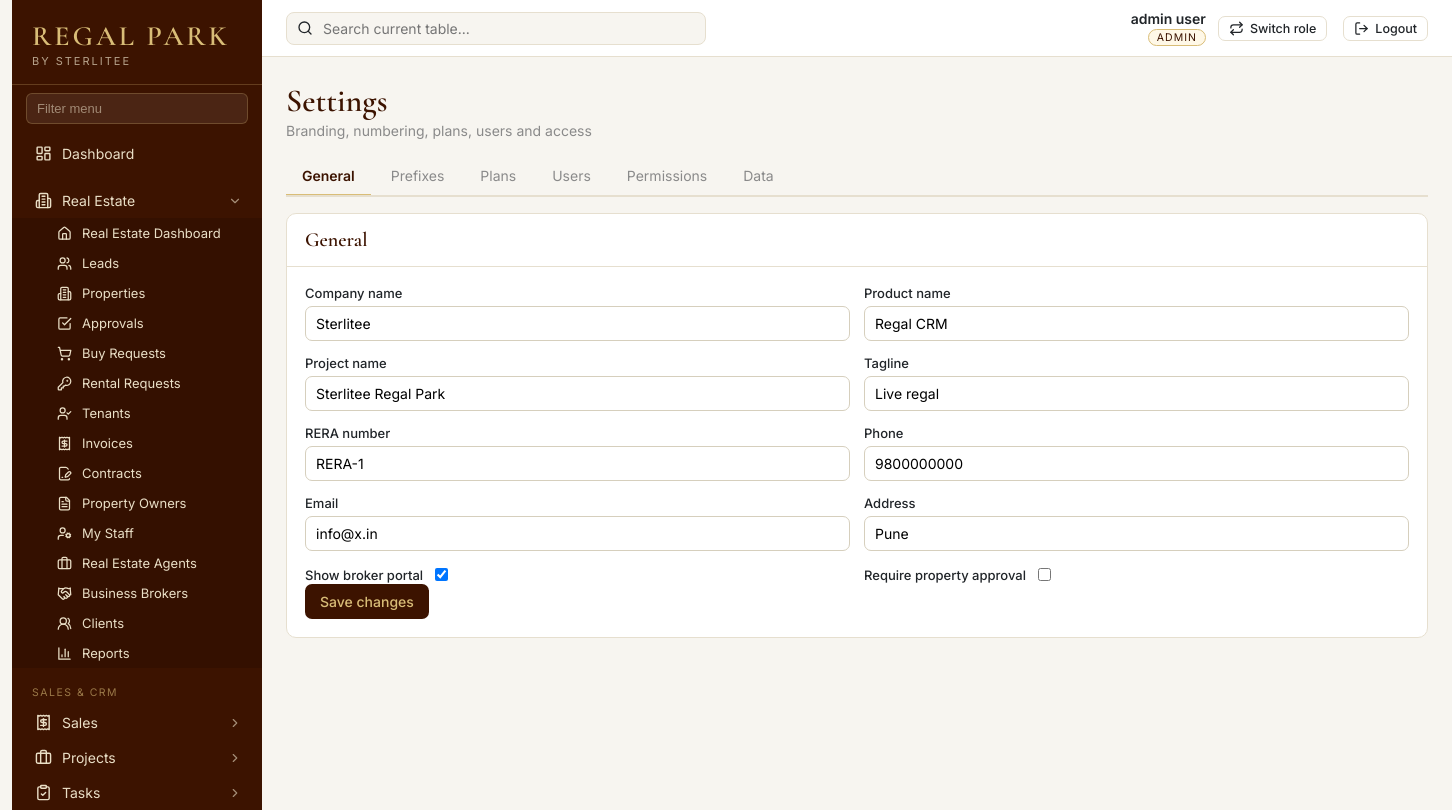
Scenario: Settings tabs (PLAN §7) › Users tab renders (Owen User)
The image size is (1452, 810).
Expected: the button "Logout" is shown, [1343,16,1428,40]
Expected: the heading "Settings" is shown, [286,81,388,120]
What coordinates should you click on to do the following:
click the tab "Users"
I would click on:
 (572, 177)
Its box is [536,157,607,197].
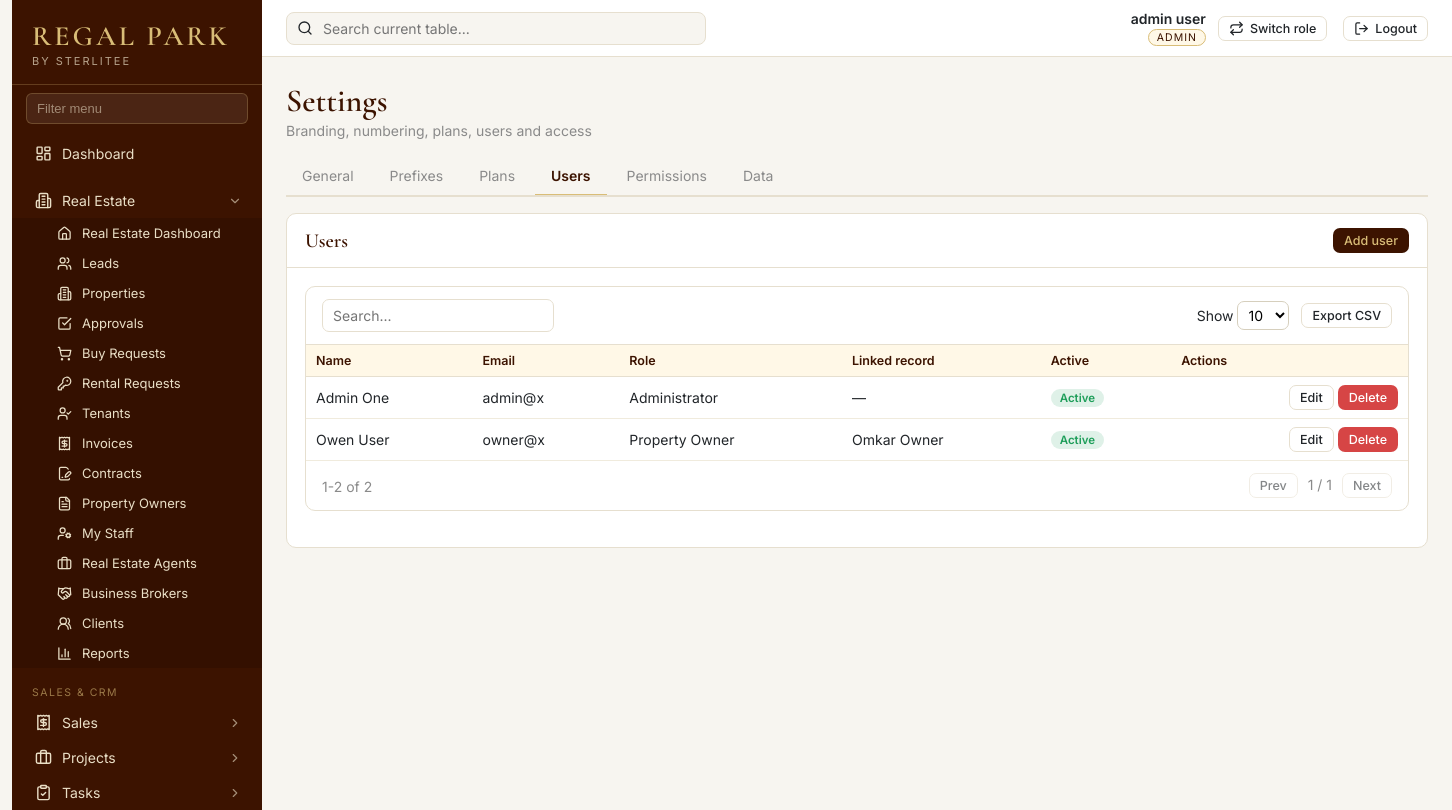
Expected: the text "Owen User" is shown, [306,418,472,460]
